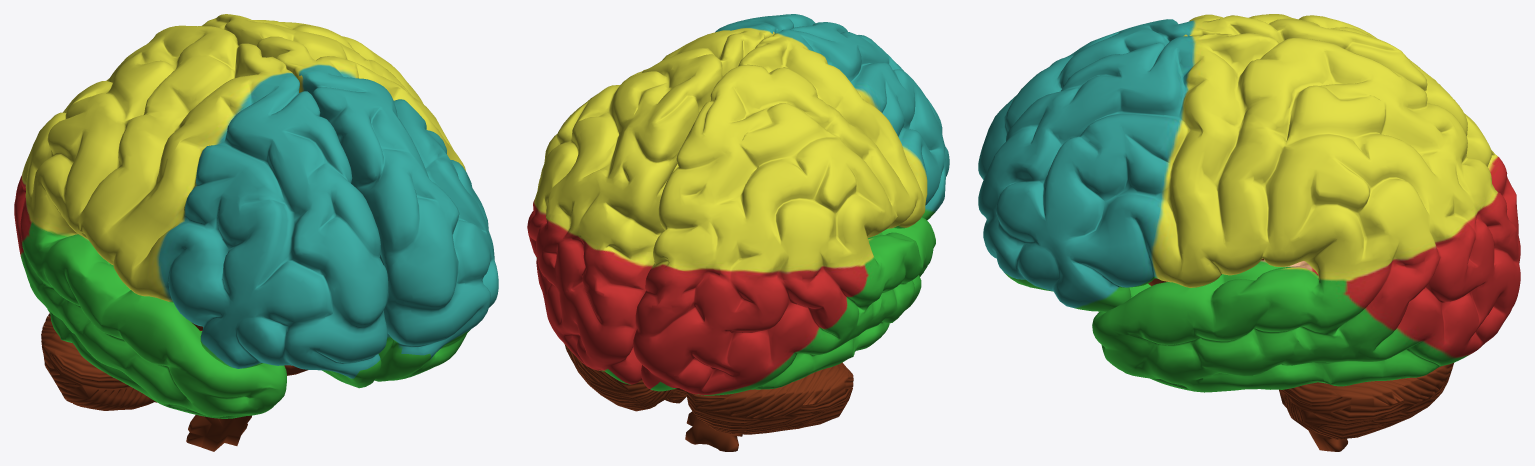
File: Brain.glb
The picture shows the model from 3 angles, left to right: view 1: azimuth 30°, elevation 25°; view 2: azimuth 150°, elevation 25°; view 3: azimuth 270°, elevation 25°; orthographic projection. The views are drawn at different scales.
Visible parts, largest first — view 1: Brain_Part_06, Brain_Part_04, Brain_Part_02, Brain_Part_05; view 2: Brain_Part_06, Brain_Part_04, Brain_Part_02, Brain_Part_05; view 3: Brain_Part_04, Brain_Part_06, Brain_Part_02, Brain_Part_05.
Part boxes in pixels (bbox=[...]): Brain_Part_06: bbox=[14, 25, 388, 418]; Brain_Part_04: bbox=[202, 14, 498, 381]; Brain_Part_02: bbox=[41, 313, 156, 410]; Brain_Part_05: bbox=[186, 323, 251, 451]; Brain_Part_06: bbox=[633, 22, 949, 395]; Brain_Part_04: bbox=[527, 14, 815, 384]; Brain_Part_02: bbox=[564, 344, 853, 434]; Brain_Part_05: bbox=[685, 411, 742, 451]; Brain_Part_04: bbox=[978, 33, 1520, 392]; Brain_Part_06: bbox=[978, 14, 1520, 263]; Brain_Part_02: bbox=[1281, 363, 1453, 439]; Brain_Part_05: bbox=[1148, 258, 1347, 451].
Size of the model in its own units: 1.06 by 1.12 by 1.32.
Materials: 1 (1 with a texture image).
